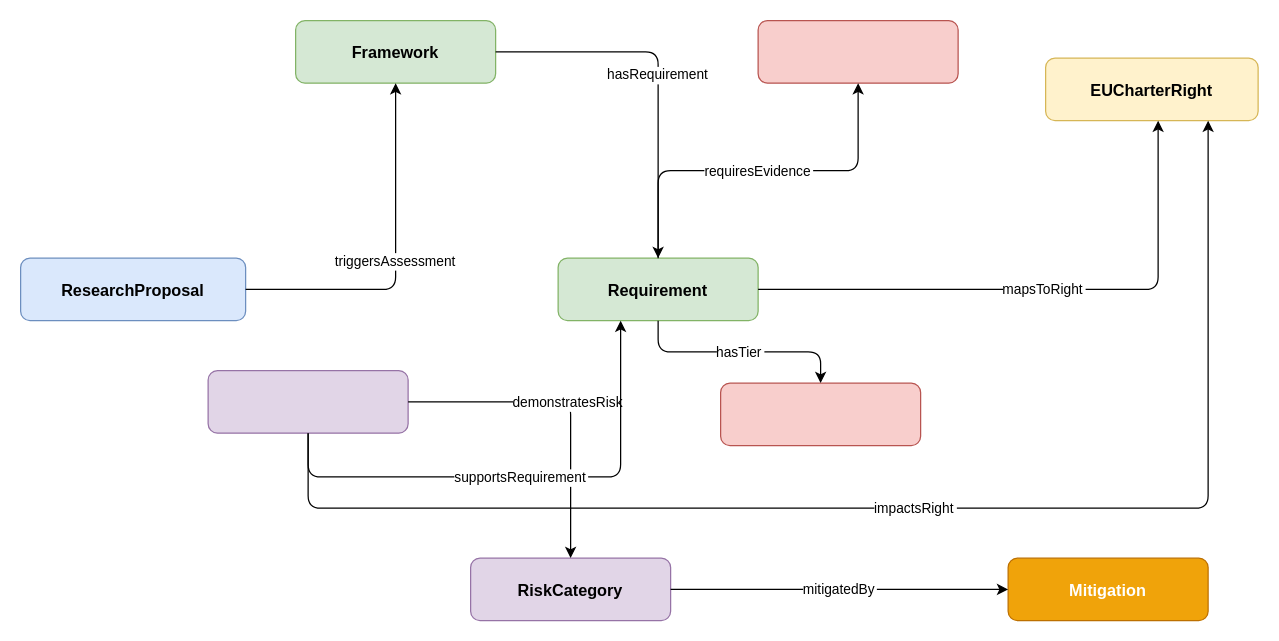
Image size: 1279x641. Some labels were removed from this diagram. The shapes that lost their labels are listed below. From the top down, each one's centre as x and y in pixels, then its label:
point 857,51: Evidence
point 307,401: Incident
point 820,414: Tier
